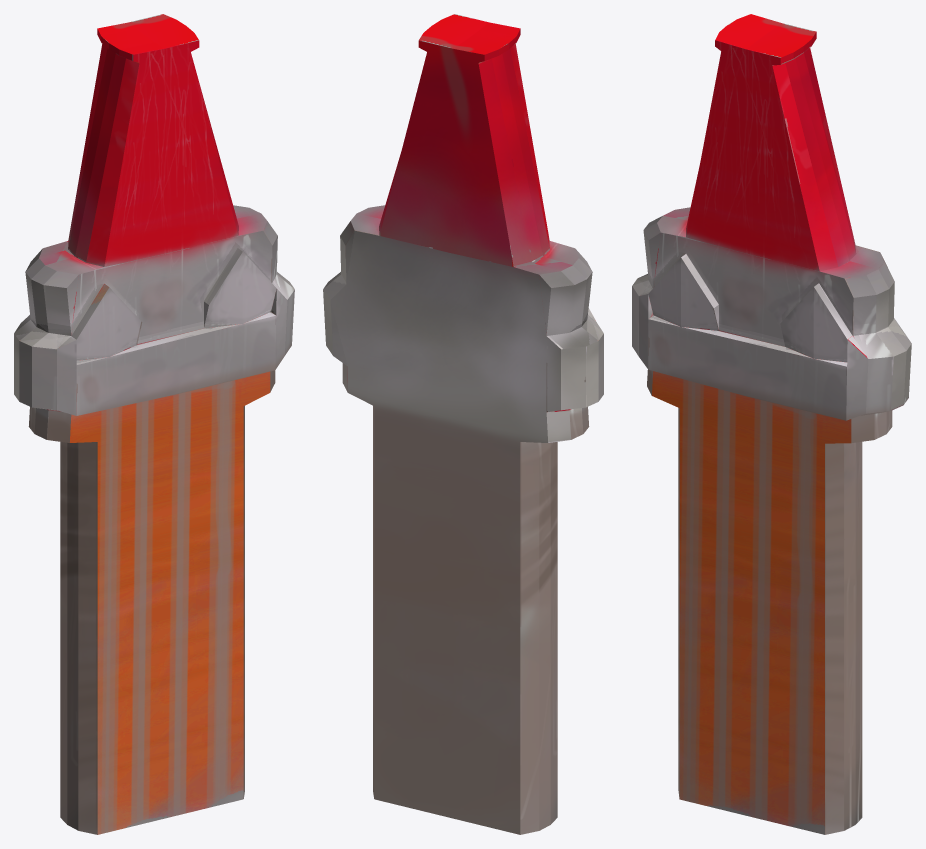
Rendered from FIREHOSE-MODEL.fbx.
3 renders of one model, left to right at view 1: azimuth 30°, elevation 25°; view 2: azimuth 150°, elevation 25°; view 3: azimuth 330°, elevation 25°, orthographic.
Parts seen in each view (by area): view 1: Cube; view 2: Cube; view 3: Cube.
Part boxes in pixels (x1,y1,x2,y2): Cube: (14,14,294,834); Cube: (323,14,603,834); Cube: (632,14,911,834).
Size of the model in its own units: 2.83 by 7.71 by 0.7454.
1 material, 1 textured.
